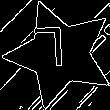L_S: (43, 28, 77, 80)
